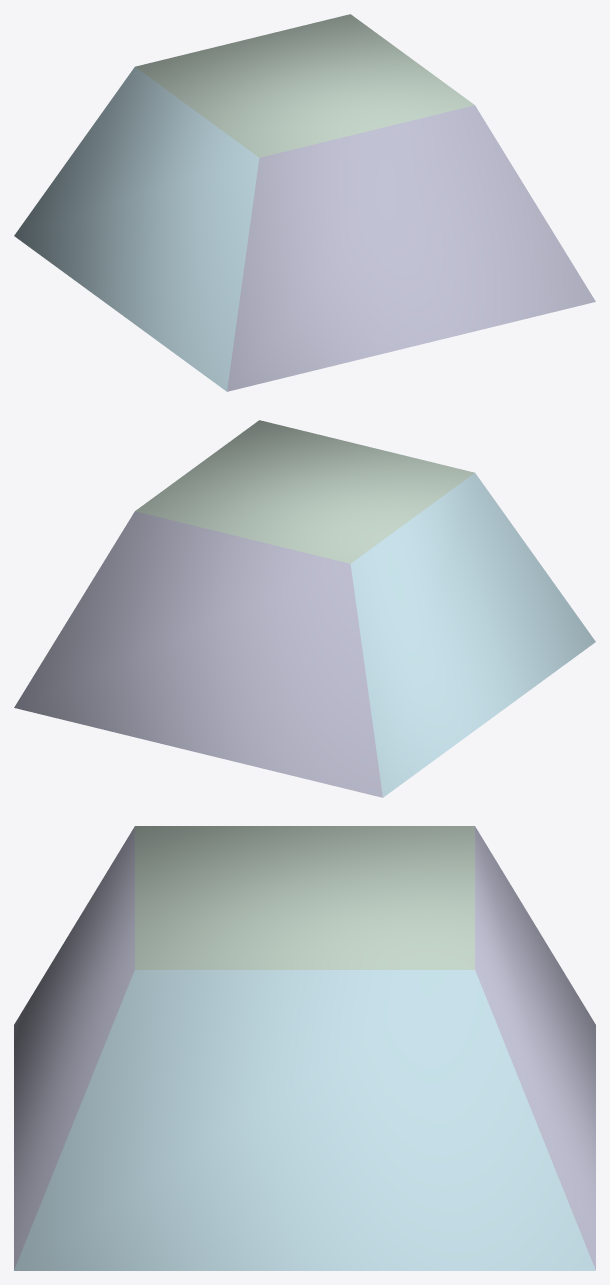
File: reflector.fbx
3 views of the same model, one above another, from view 1: azimuth 30°, elevation 25°; view 2: azimuth 150°, elevation 25°; view 3: azimuth 270°, elevation 25° (orthographic). The views are drawn at different scales.
Visible parts, largest first — view 1: Block; view 2: Block; view 3: Block.
Boxes of the visible parts, left/top/right/bottom form: Block: left=14, top=14, right=595, bottom=391; Block: left=14, top=420, right=595, bottom=797; Block: left=14, top=826, right=595, bottom=1270.
Size of the model in its own units: 0.6355 by 0.3011 by 0.6355.
